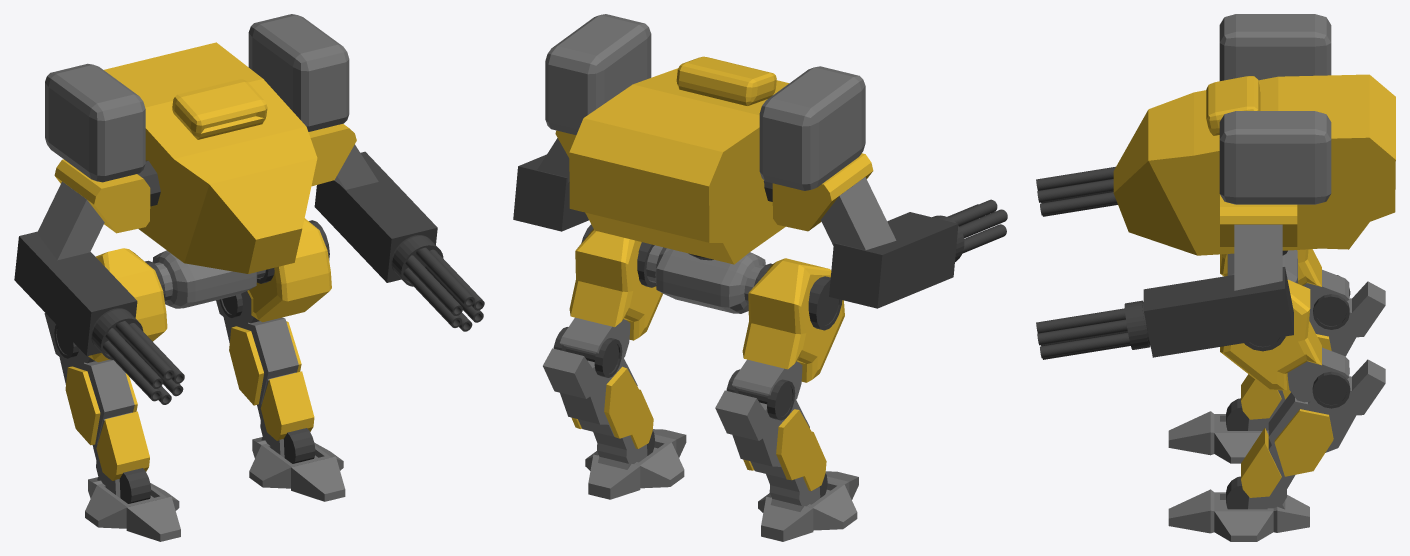
File: Enemy2_RobotTorreta.fbx
The picture shows the model from 3 angles, left to right: view 1: azimuth 30°, elevation 25°; view 2: azimuth 150°, elevation 25°; view 3: azimuth 270°, elevation 25°; orthographic projection. The views are drawn at different scales.
Parts seen in each view (by area): view 1: Enemy2; view 2: Enemy2; view 3: Enemy2.
Part boxes in pixels (<box>): Enemy2: <box>14,14,484,541</box>; Enemy2: <box>513,14,1007,541</box>; Enemy2: <box>1036,14,1395,541</box>.
Size of the model in its own units: 2 by 2.32 by 1.84.
